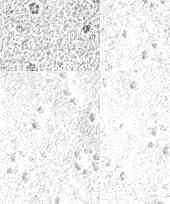rosette_object: (68, 147, 100, 176), (135, 0, 170, 9), (27, 1, 40, 15)
